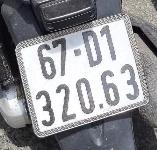0: (72, 74, 98, 117)
1: (98, 23, 119, 64)
2: (52, 81, 78, 124)
3: (31, 86, 59, 130), (117, 60, 142, 103)
6: (33, 41, 60, 83), (97, 66, 122, 108)
7: (50, 36, 76, 77)
D: (79, 26, 107, 71)
